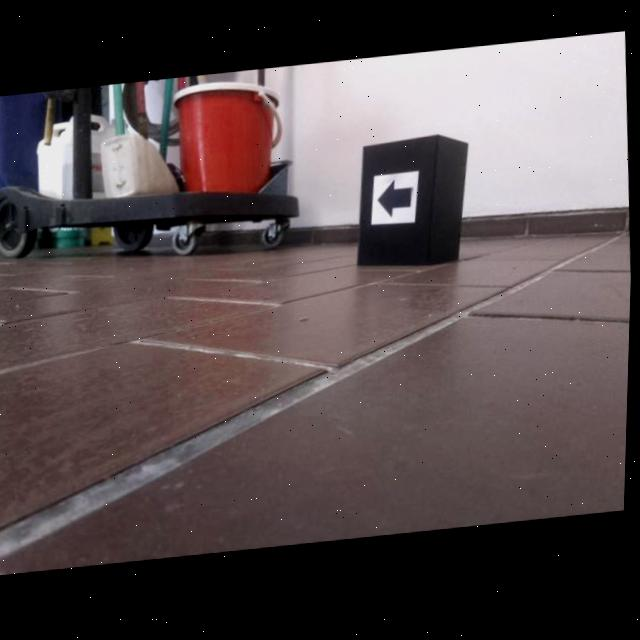LEFT: (379, 183, 414, 223)
